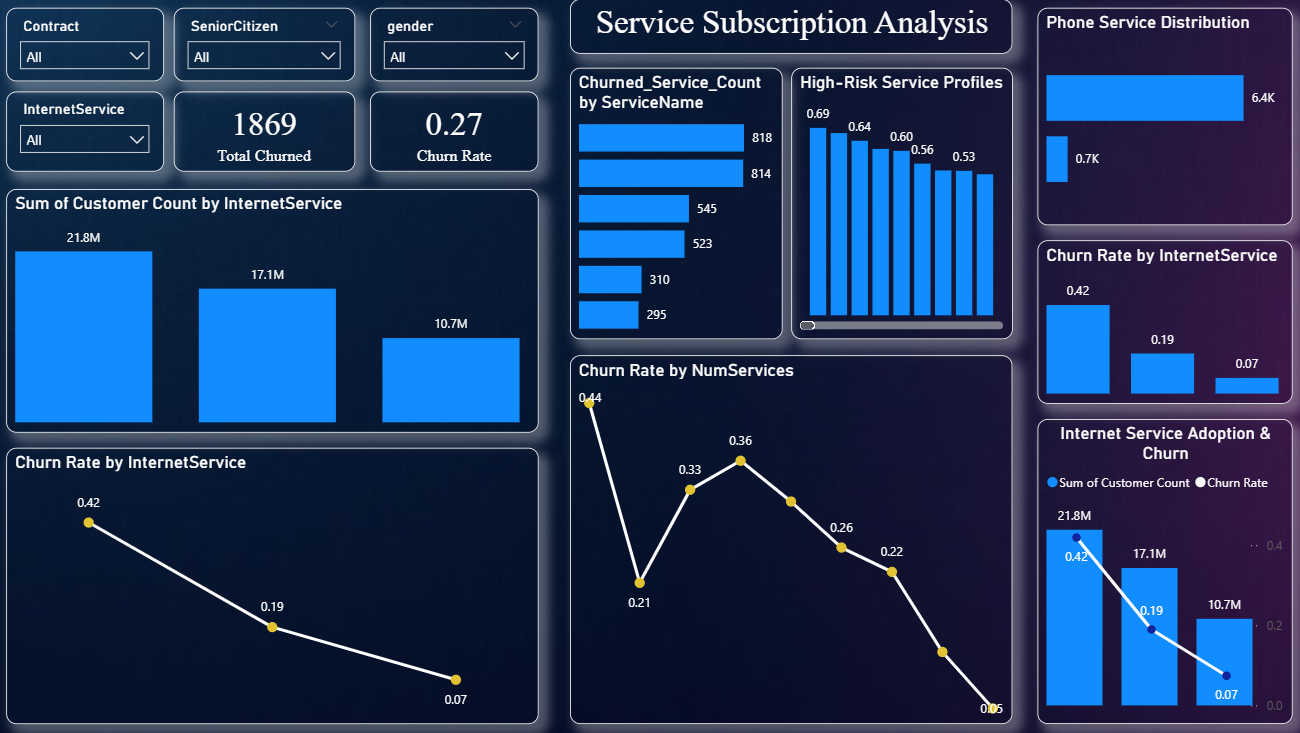

What the dashboard file says about the page in this screenshot:
{"tool":"powerbi","page":{"name":"Service Subscription Analysis","canvas":[1280,720],"ordinal":1},"visuals":[{"type":"textbox","title":"Service Subscription Analysis","box":[562.5,0,432.9,53.8],"z":0},{"type":"clusteredBarChart","title":"Phone Service Distribution","fields":{"Category":["Customer Churn Analysis.PhoneService"],"Y":["CountNonNull(Customer Churn Analysis.customerID)"]},"box":[1019.8,8.6,249.5,212.8],"z":1000},{"type":"clusteredColumnChart","fields":{"Y":["Customer Churn Analysis.Churn Rate"],"Category":["Customer Churn Analysis.InternetService"]},"box":[1019.8,236,249.5,160.2],"z":2000},{"type":"barChart","title":"Churned_Service_Count by ServiceName","fields":{"Category":["Service list.ServiceName"],"Y":["Customer Churn Analysis.Churned_Service_Count"]},"box":[562.5,67.3,207.9,265.4],"z":3000},{"type":"lineChart","fields":{"Category":["Customer Churn Analysis.NumServices"],"Y":["Customer Churn Analysis.Churn Rate"]},"box":[562.5,348.5,432.9,360.7],"z":4000},{"type":"clusteredColumnChart","title":"High-Risk Service Profiles","fields":{"Category":["Customer Churn Analysis.ServiceCombination"],"Y":["Customer Churn Analysis.Churn Rate"]},"box":[778.9,67.3,216.4,265.4],"z":5000},{"type":"lineClusteredColumnComboChart","title":"Internet Service Adoption & Churn","fields":{"Y":["Sum(Customer Churn Analysis.Customer Count)"],"Y2":["Customer Churn Analysis.Churn Rate"],"Category":["Customer Churn Analysis.InternetService"]},"box":[1019.8,410.9,249.5,298.4],"z":6000},{"type":"slicer","fields":{"Values":["Customer Churn Analysis.InternetService"]},"box":[11,90.5,154.1,78.3],"z":7000},{"type":"slicer","fields":{"Values":["Customer Churn Analysis.gender"]},"box":[366.8,8.6,165.1,72.1],"z":8000},{"type":"slicer","fields":{"Values":["Customer Churn Analysis.Contract"]},"box":[11,8.6,154.1,72.1],"z":9000},{"type":"slicer","fields":{"Values":["Customer Churn Analysis.SeniorCitizen"]},"box":[174.9,8.6,177.3,72.1],"z":10000},{"type":"clusteredColumnChart","fields":{"Category":["Customer Churn Analysis.InternetService"],"Y":["Sum(Customer Churn Analysis.Customer Count)"]},"box":[11,185.9,520.9,238.5],"z":11000},{"type":"lineChart","fields":{"Y":["Customer Churn Analysis.Churn Rate"],"Category":["Customer Churn Analysis.InternetService"]},"box":[11,439,520.9,270.2],"z":12000},{"type":"card","fields":{"Values":["Customer Churn Analysis.Total Churned"]},"box":[174.9,90.5,177.3,78.3],"z":13000},{"type":"card","fields":{"Values":["Customer Churn Analysis.Churn Rate"]},"box":[366.8,90.5,165.1,78.3],"z":14000}]}

Visuals, with their boxes in screenshot pixels (x1, y1, x2, y2), scaled from the page's 1280x720 canvas onto the 1300x733 screenshot:
"Service Subscription Analysis" textbox: bbox(571, 0, 1011, 55)
"Phone Service Distribution" clusteredBarChart: bbox(1036, 9, 1289, 225)
clusteredColumnChart - Customer Churn Analysis.Churn Rate x Customer Churn Analysis.InternetService: bbox(1036, 240, 1289, 403)
"Churned_Service_Count by ServiceName" barChart: bbox(571, 69, 782, 339)
lineChart - Customer Churn Analysis.NumServices x Customer Churn Analysis.Churn Rate: bbox(571, 355, 1011, 722)
"High-Risk Service Profiles" clusteredColumnChart: bbox(791, 69, 1011, 339)
"Internet Service Adoption & Churn" lineClusteredColumnComboChart: bbox(1036, 418, 1289, 722)
slicer - Customer Churn Analysis.InternetService: bbox(11, 92, 168, 172)
slicer - Customer Churn Analysis.gender: bbox(373, 9, 540, 82)
slicer - Customer Churn Analysis.Contract: bbox(11, 9, 168, 82)
slicer - Customer Churn Analysis.SeniorCitizen: bbox(178, 9, 358, 82)
clusteredColumnChart - Customer Churn Analysis.InternetService x Sum(Customer Churn Analysis.Customer Count): bbox(11, 189, 540, 432)
lineChart - Customer Churn Analysis.Churn Rate x Customer Churn Analysis.InternetService: bbox(11, 447, 540, 722)
card - Customer Churn Analysis.Total Churned: bbox(178, 92, 358, 172)
card - Customer Churn Analysis.Churn Rate: bbox(373, 92, 540, 172)
